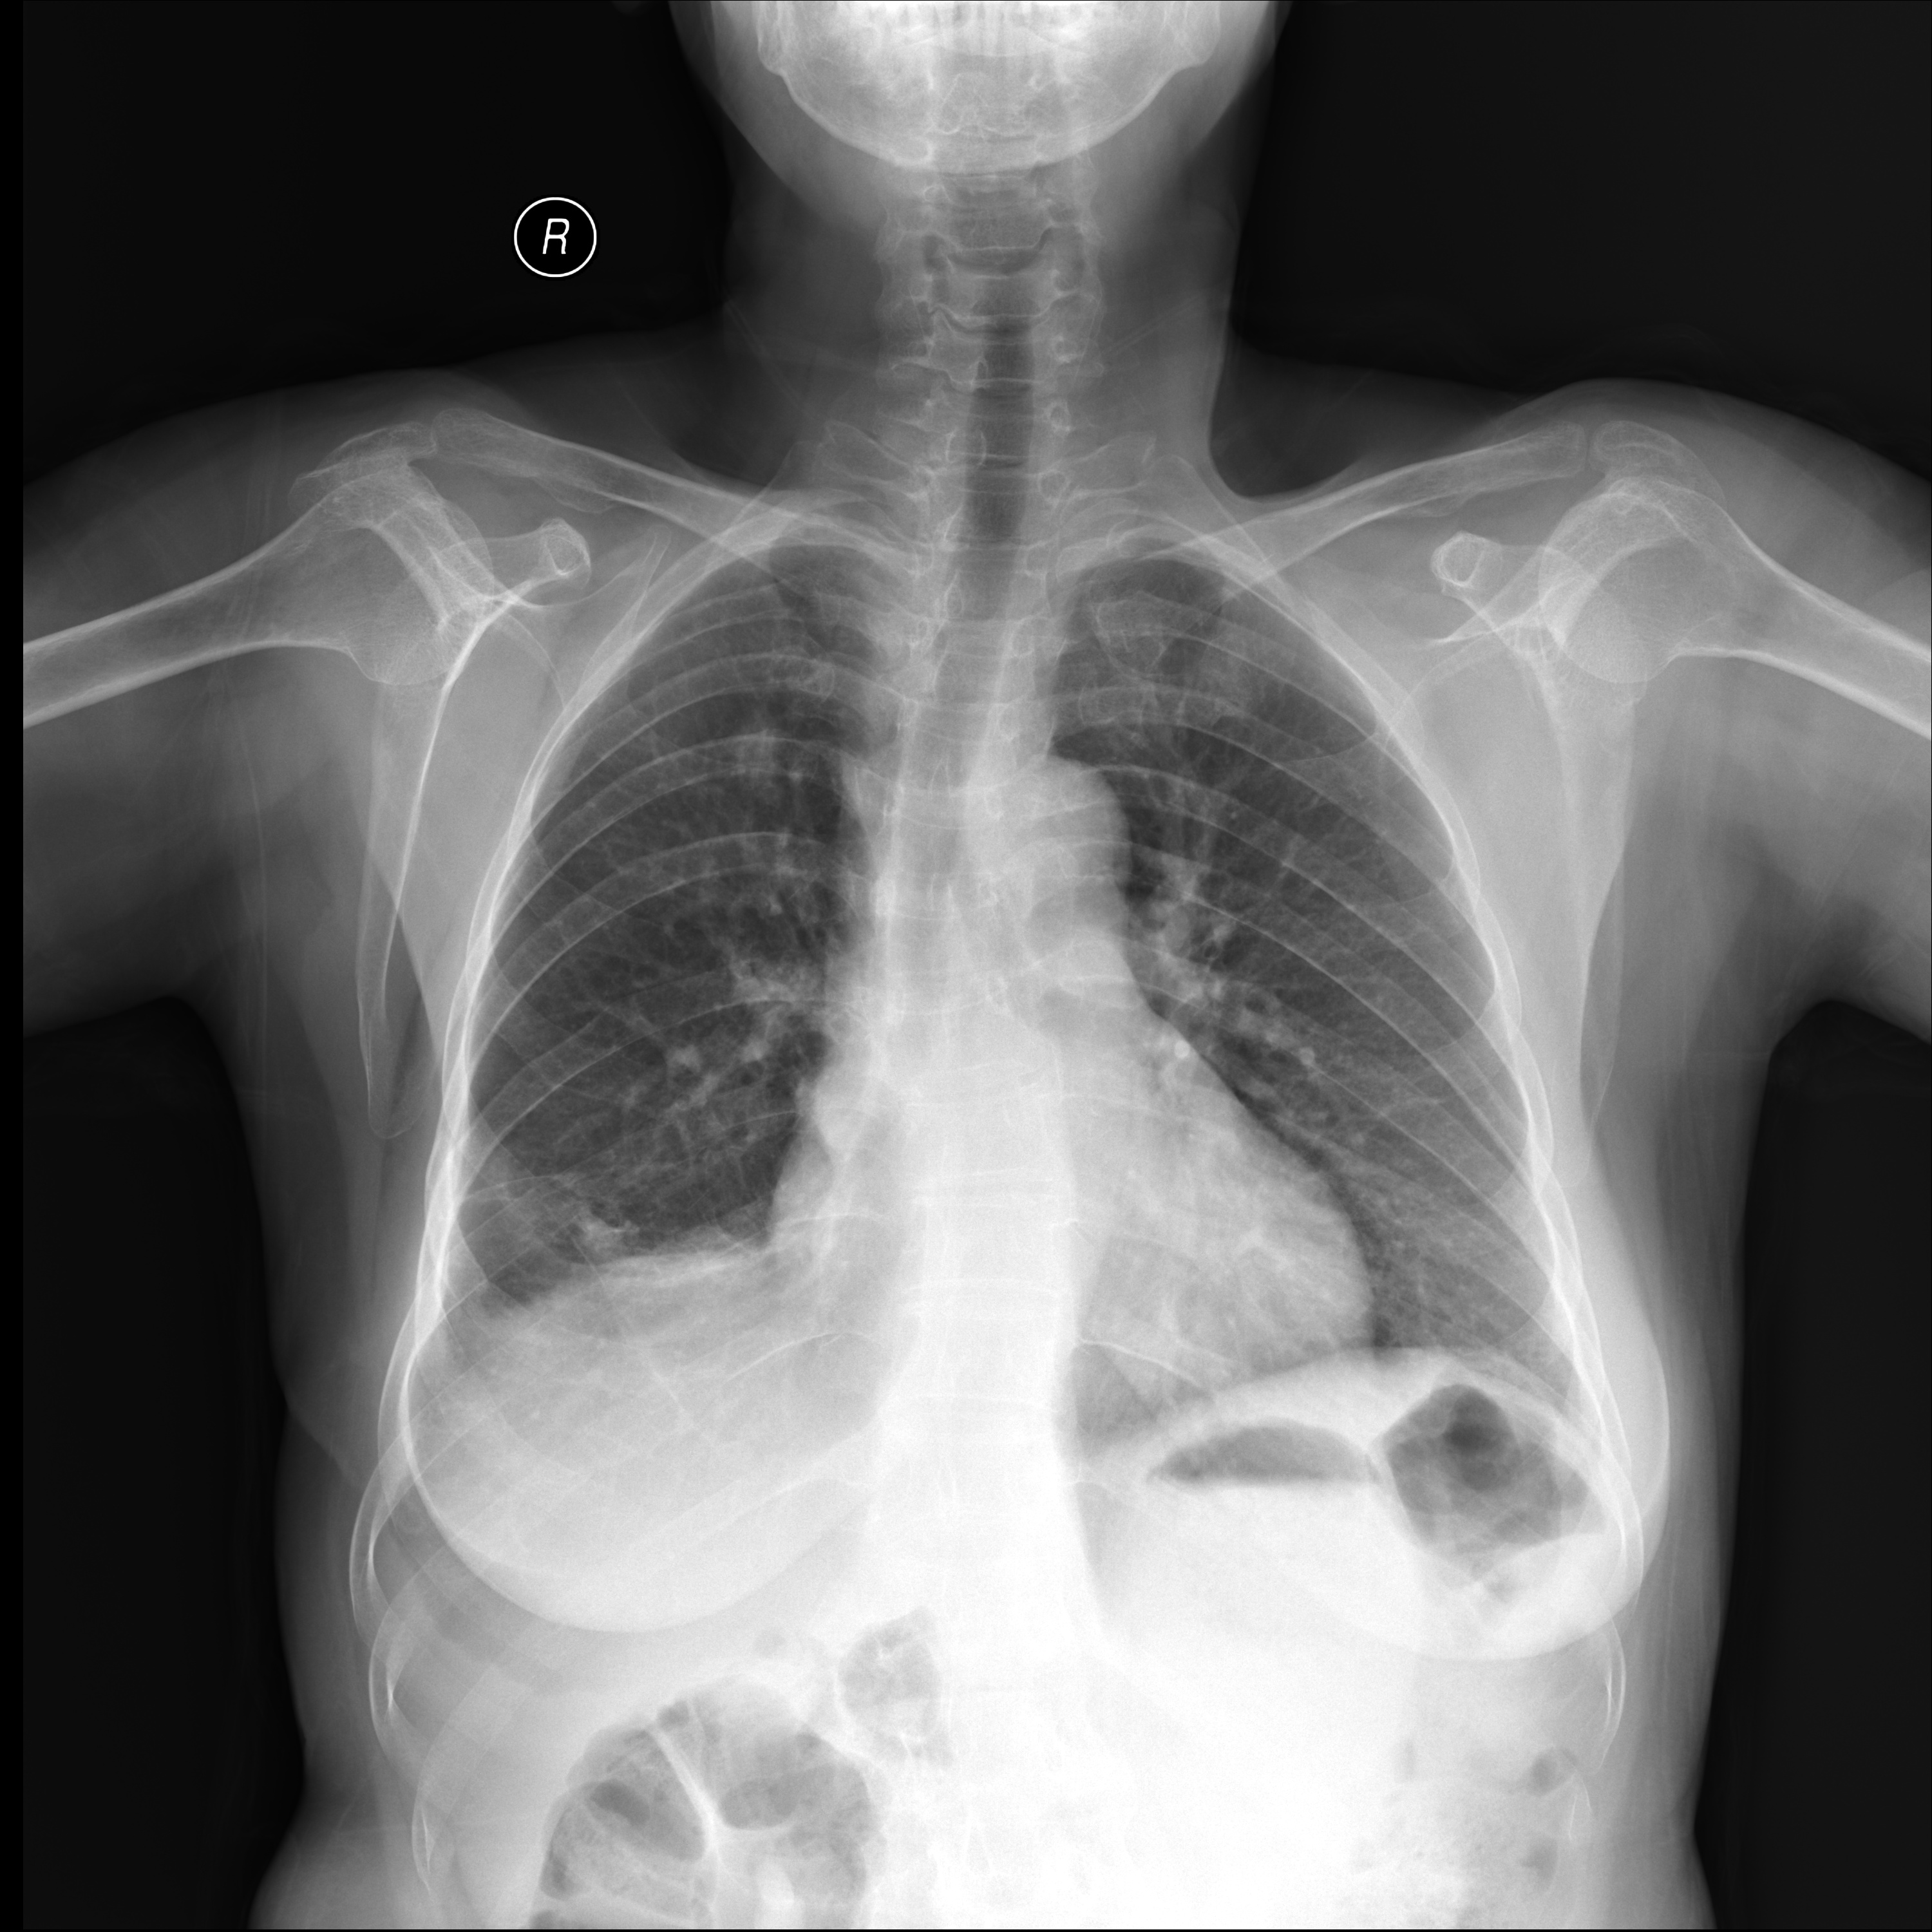nodule: (552, 1161, 678, 1286), (702, 699, 798, 800)
